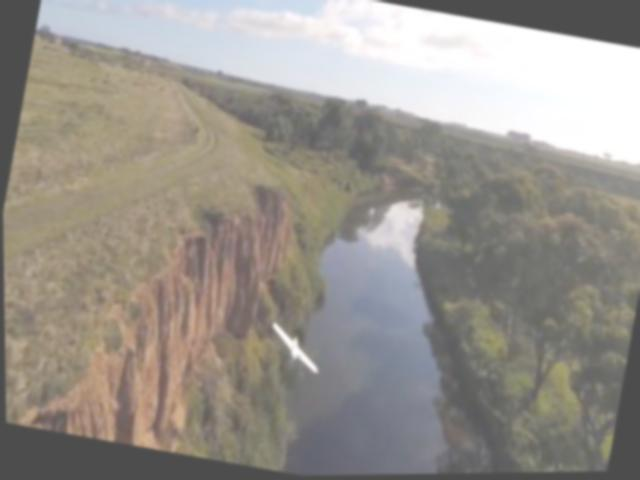uav: (261, 326, 329, 379)
